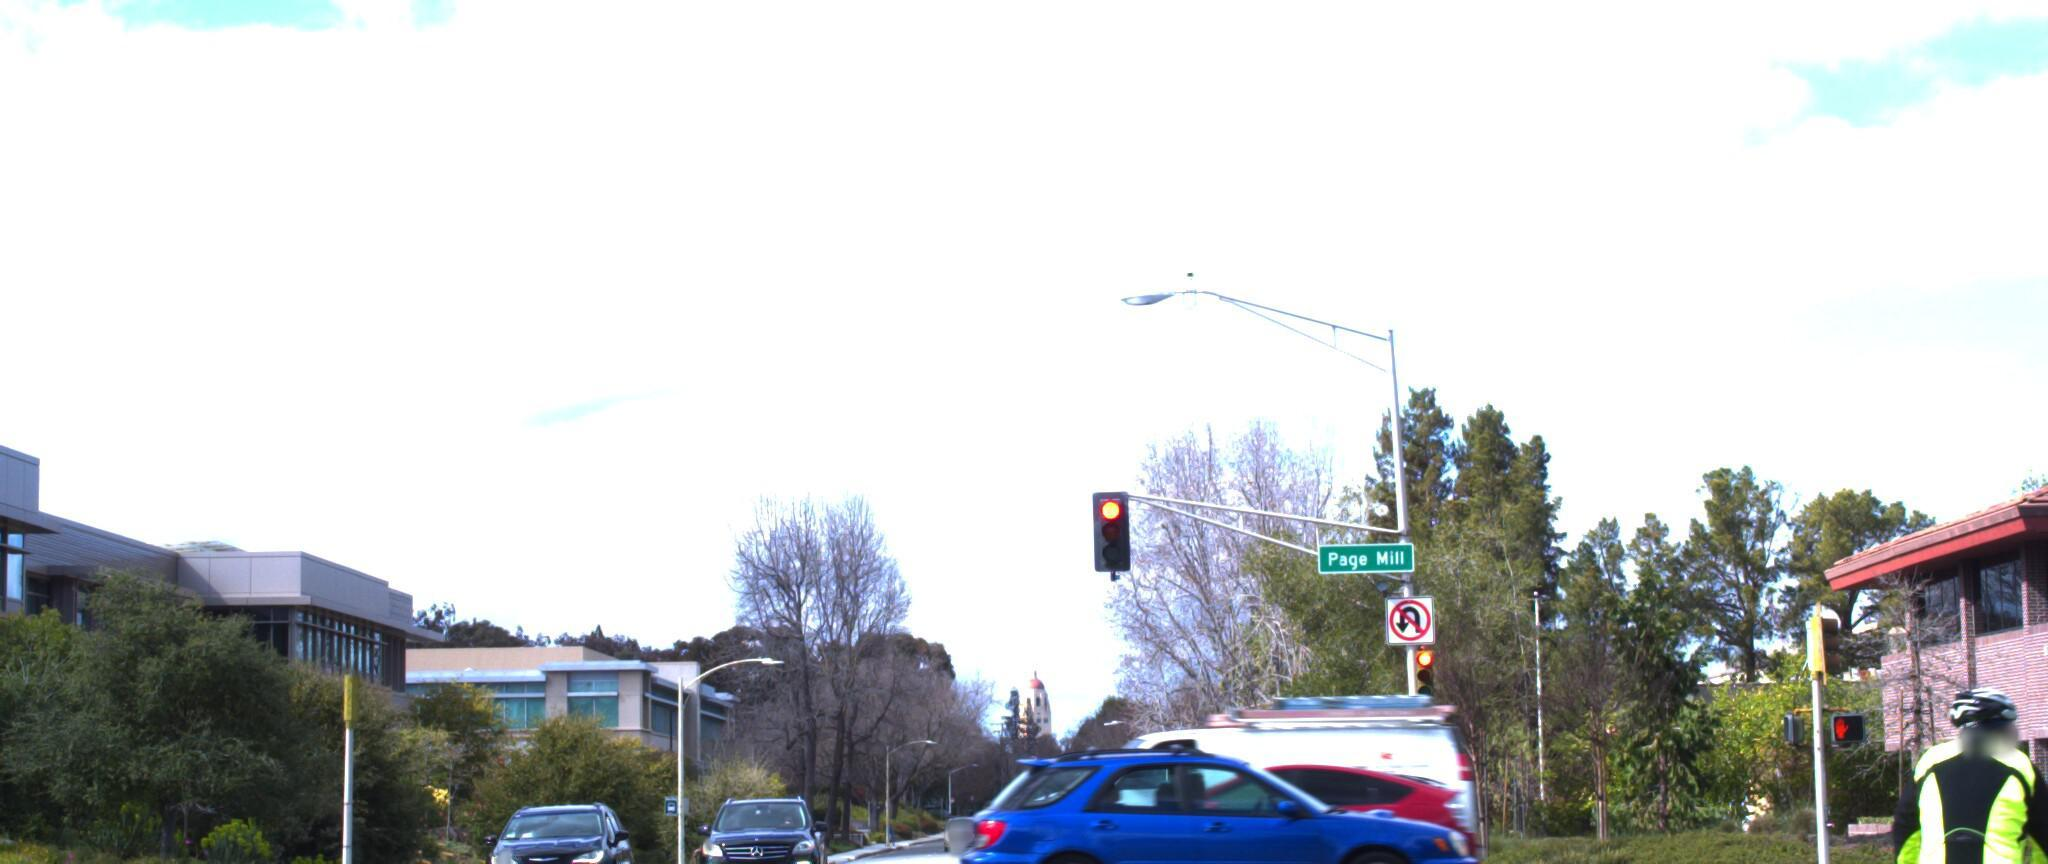bicycle: (1829, 666, 2048, 864)
car: (951, 736, 1485, 864), (1055, 754, 1482, 864), (488, 799, 660, 864), (690, 801, 846, 864), (0, 767, 10, 864)
truck: (1020, 687, 1498, 864)
